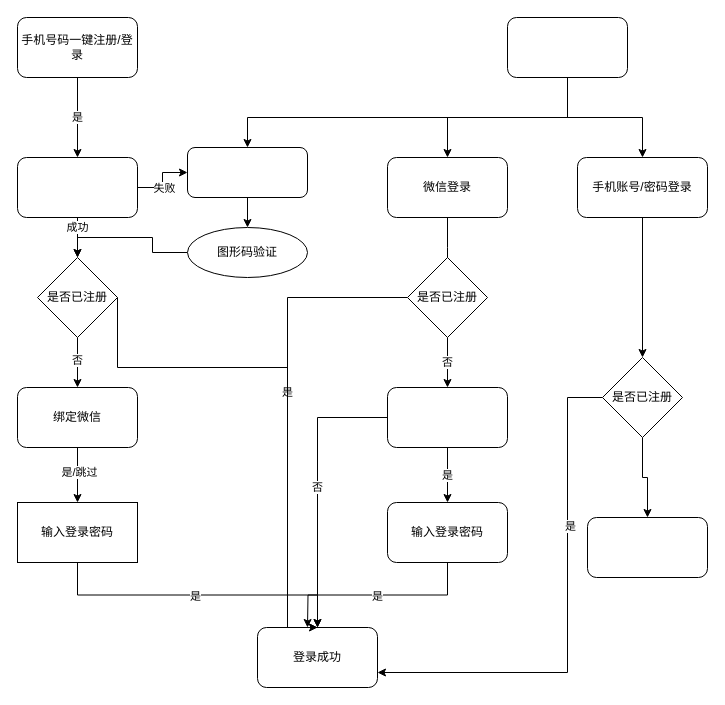
Image size: 725x705. Some labels were removed from this diagram. The shapes that lost their labels are listed below. From the top down, each one's centre as x and y in pixels, then its label:
At point 567,47: "其他登录".
At point 77,187: "sdk请求，服务器请求".
At point 247,172: "短信验证码注册/登录".
At point 447,417: "绑定手机".
At point 647,547: "登录失败".
